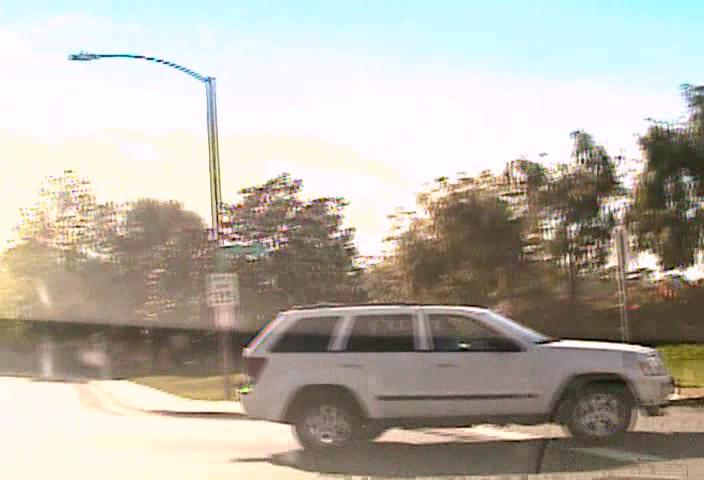speedLimit35: (204, 270, 239, 309)
